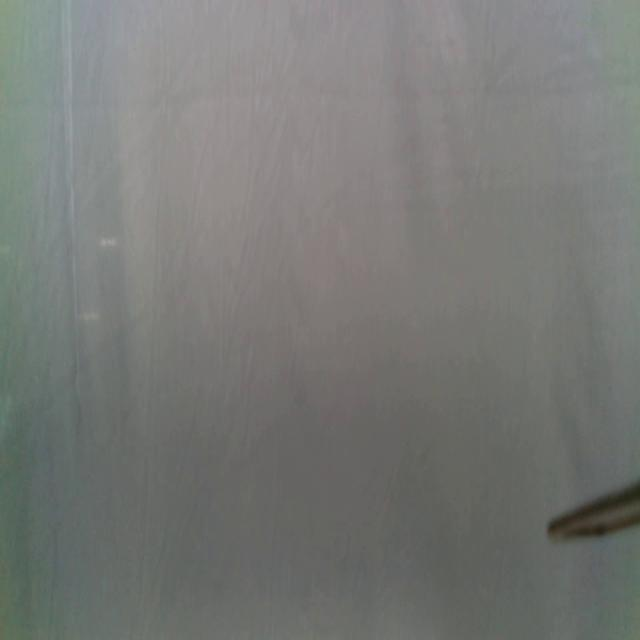crease: (59, 0, 81, 397)
